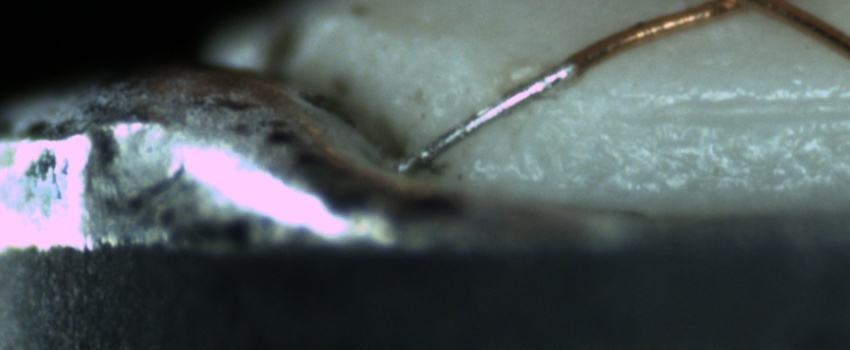CL: (696, 0, 794, 20)
DL: (636, 80, 850, 138)
TS: (401, 54, 578, 173)
